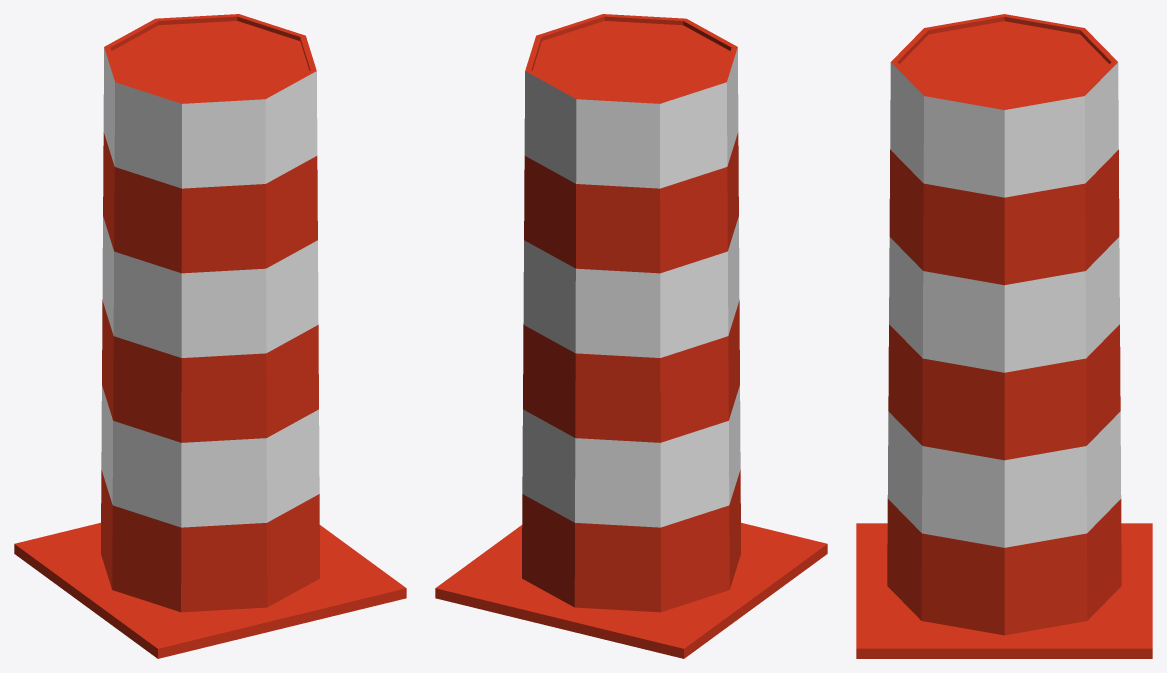
File: plot4.fbx
3 views of the same model, side by side, from view 1: azimuth 30°, elevation 25°; view 2: azimuth 150°, elevation 25°; view 3: azimuth 270°, elevation 25° (orthographic). The views are drawn at different scales.
Visible parts, largest first — view 1: plot4; view 2: plot4; view 3: plot4.
Part boxes in pixels (left/top/right/bottom): plot4: left=14, top=14, right=406, bottom=658; plot4: left=435, top=14, right=827, bottom=658; plot4: left=856, top=14, right=1152, bottom=658.
Bounding box in the file's own units: 26.5 × 52.66 × 26.5.
